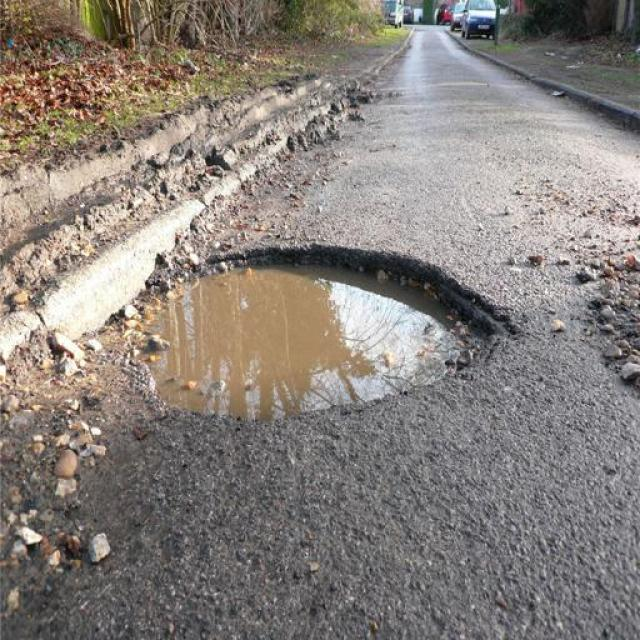puddle: (152, 233, 442, 453)
